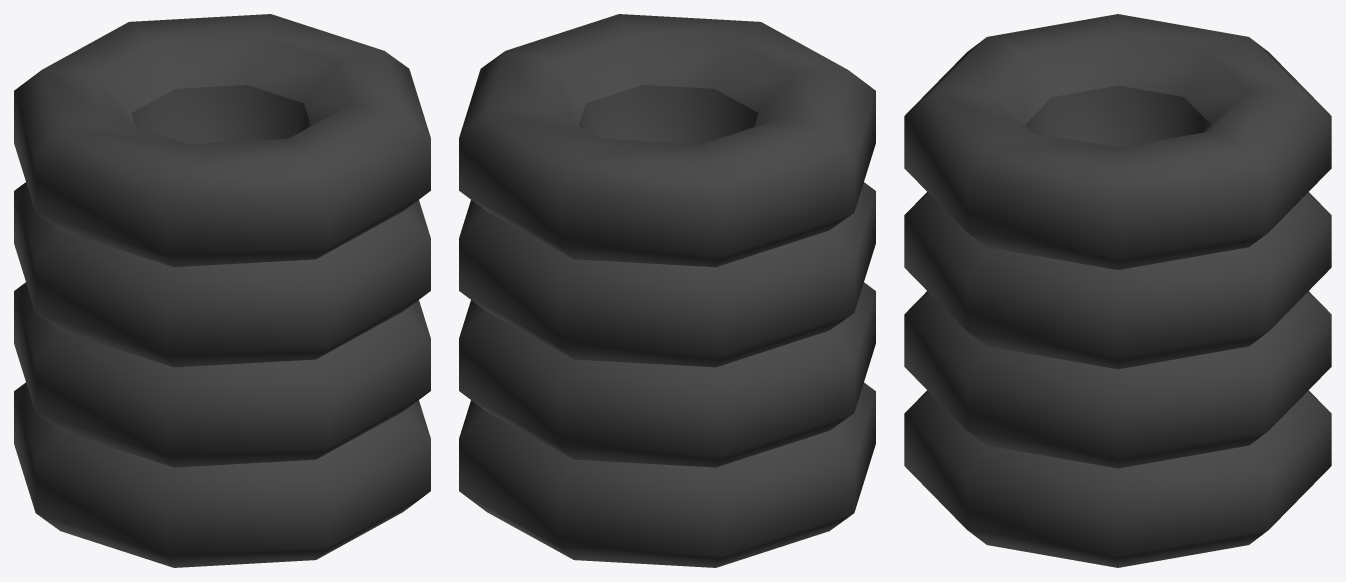
Rendered from Tires_001.glb.
The picture shows the model from 3 angles, left to right: view 1: azimuth 30°, elevation 25°; view 2: azimuth 150°, elevation 25°; view 3: azimuth 270°, elevation 25°; orthographic projection.
Visible parts, largest first — view 1: Tires_001; view 2: Tires_001; view 3: Tires_001.
Part boxes in pixels (bbox=[...]): Tires_001: bbox=[14, 14, 430, 567]; Tires_001: bbox=[459, 14, 875, 567]; Tires_001: bbox=[904, 14, 1331, 567].
Size of the model in its own units: 1.01 by 1.03 by 1.01.
Materials: 1 (1 with a texture image).
